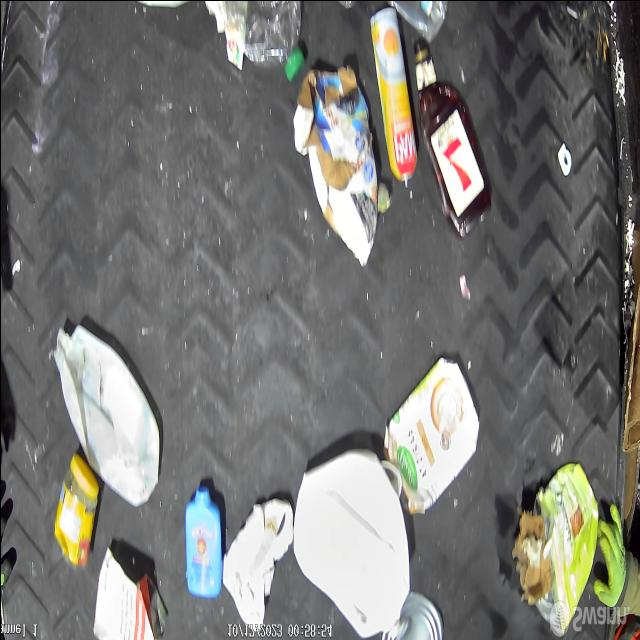can: (369, 6, 416, 188)
milk_jug: (292, 450, 410, 635), (53, 320, 162, 505), (121, 0, 204, 8)
plastic_bottle: (222, 0, 303, 78), (325, 0, 372, 10)
